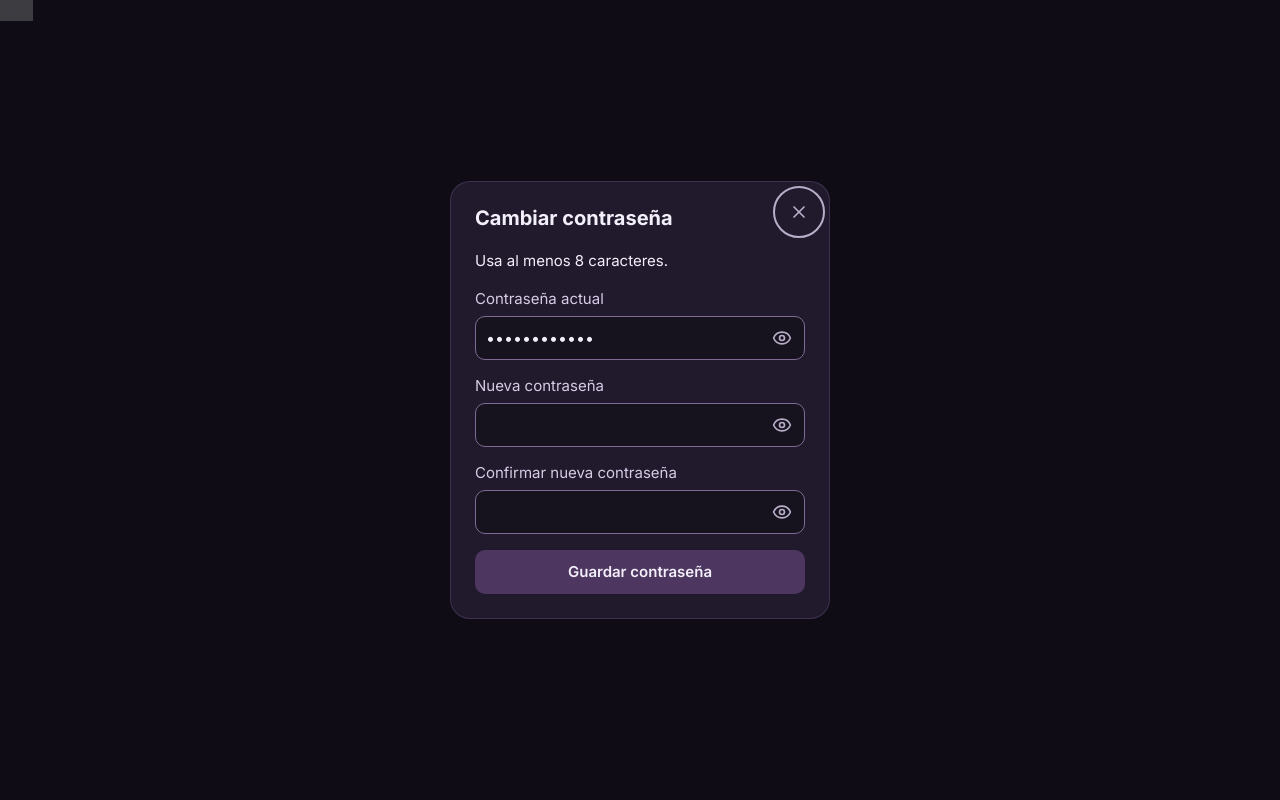
Scenario: requires current password before submitting
The width and height of the screenshot is (1280, 800).
Earlier steps of the test are not shown.
Type "current-test" into the password field labelled "Contraseña actual" at (640, 338), box top-left (475, 316), bottom-right (805, 360)
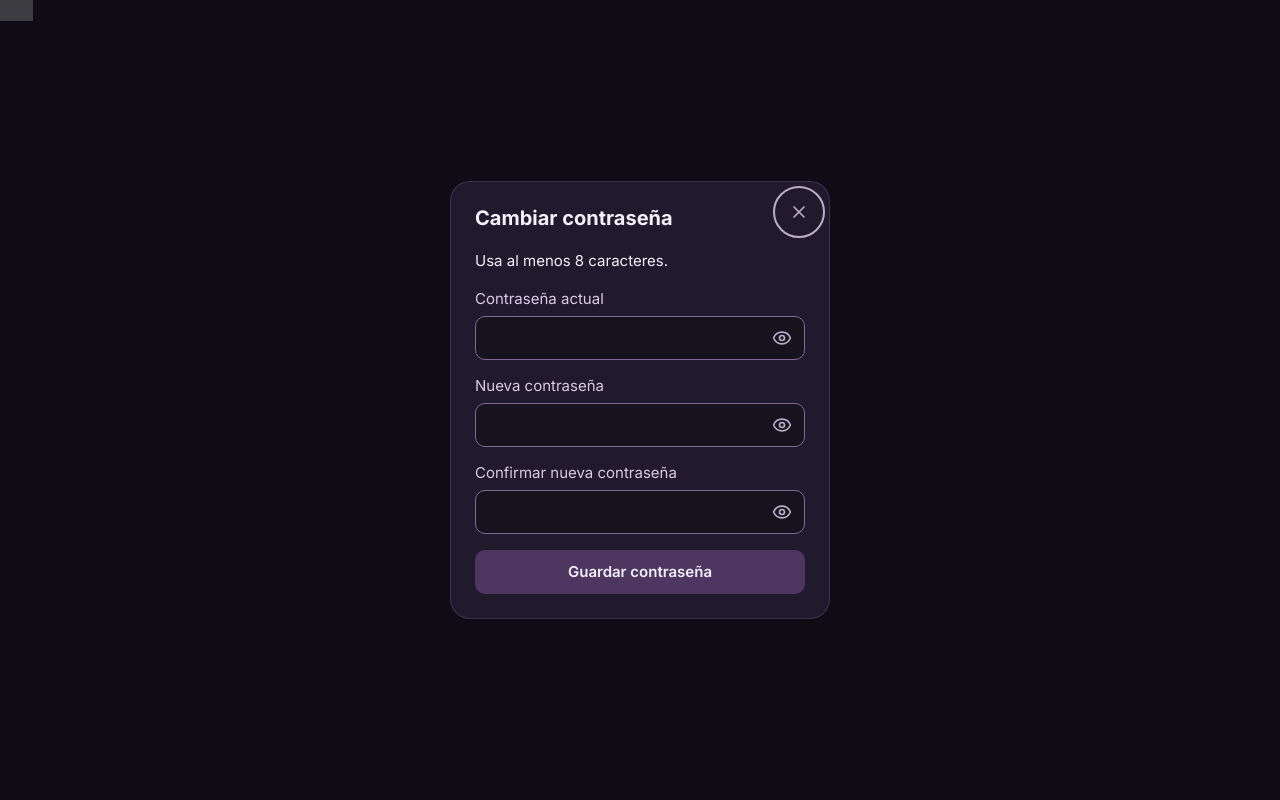
Submit the form, box top-left (475, 250), bottom-right (805, 594)
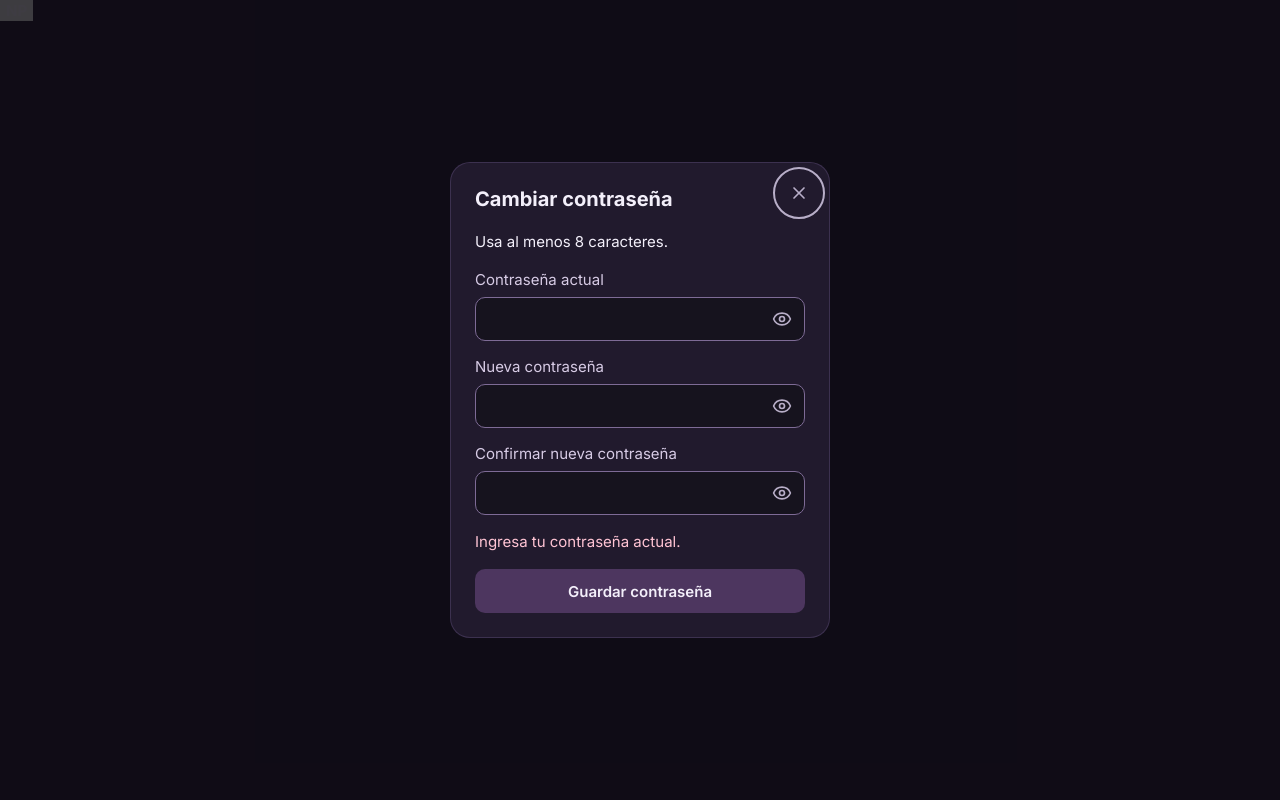
Now the message "Ingresa tu contraseña actual." is shown, box top-left (475, 532), bottom-right (680, 550)
